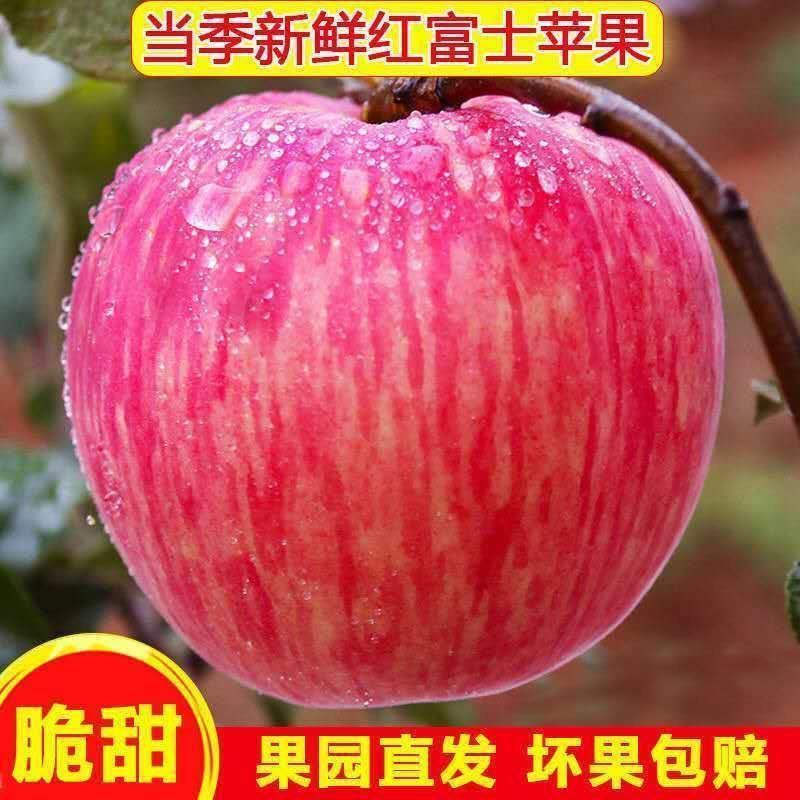apple: (64, 82, 725, 705)
